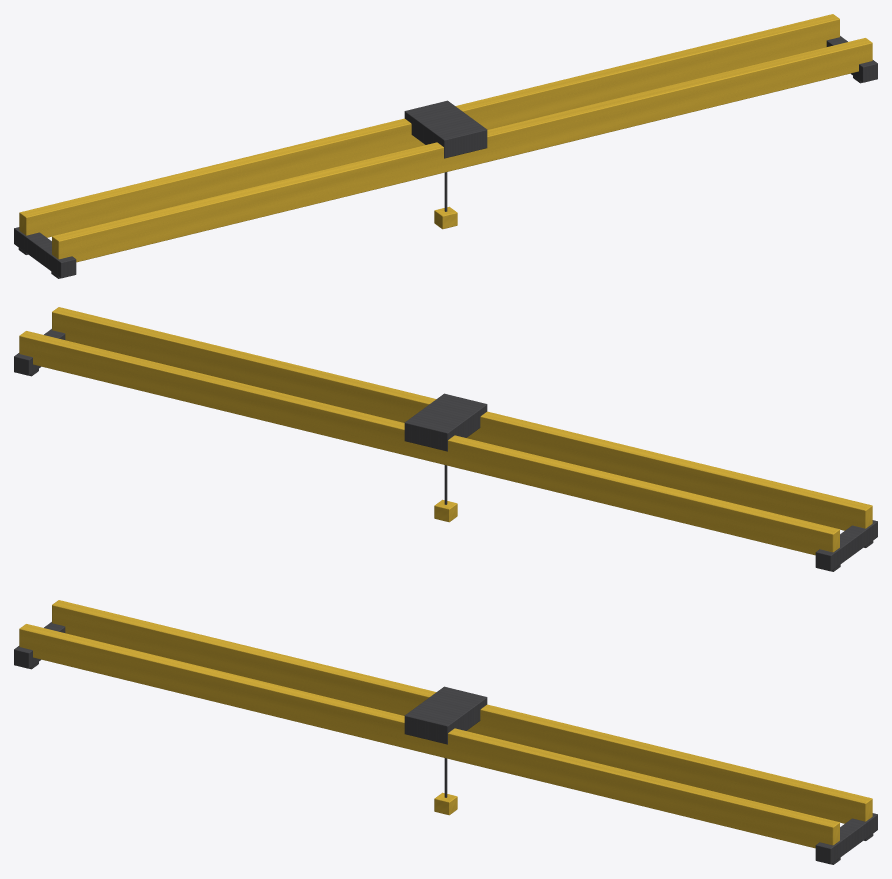
The model's file is overhead_crane.glb.
3 views of the same model, one above another, from view 1: azimuth 30°, elevation 25°; view 2: azimuth 150°, elevation 25°; view 3: azimuth 330°, elevation 25° (orthographic).
Parts seen in each view (by area): view 1: bridge_girder, bridge_girder.001, trolley, end_truck, end_truck.001; view 2: bridge_girder.001, bridge_girder, trolley, end_truck, end_truck.001; view 3: bridge_girder, bridge_girder.001, trolley, end_truck.001, end_truck.
Boxes of the visible parts, x1,y1,x2,y2 form: bridge_girder: (52, 38, 872, 262); bridge_girder.001: (19, 14, 839, 237); trolley: (404, 100, 487, 158); end_truck: (14, 227, 76, 278); end_truck.001: (826, 36, 877, 82); bridge_girder.001: (19, 331, 839, 555); bridge_girder: (52, 307, 872, 530); trolley: (404, 393, 487, 451); end_truck: (815, 520, 877, 571); end_truck.001: (14, 329, 65, 375); bridge_girder: (19, 624, 839, 848); bridge_girder.001: (52, 600, 872, 823); trolley: (404, 686, 487, 744); end_truck.001: (815, 813, 877, 864); end_truck: (14, 622, 65, 668).
Size of the model in its own units: 15.96 by 1.95 by 1.6.
Materials: 2 (2 with a texture image).
